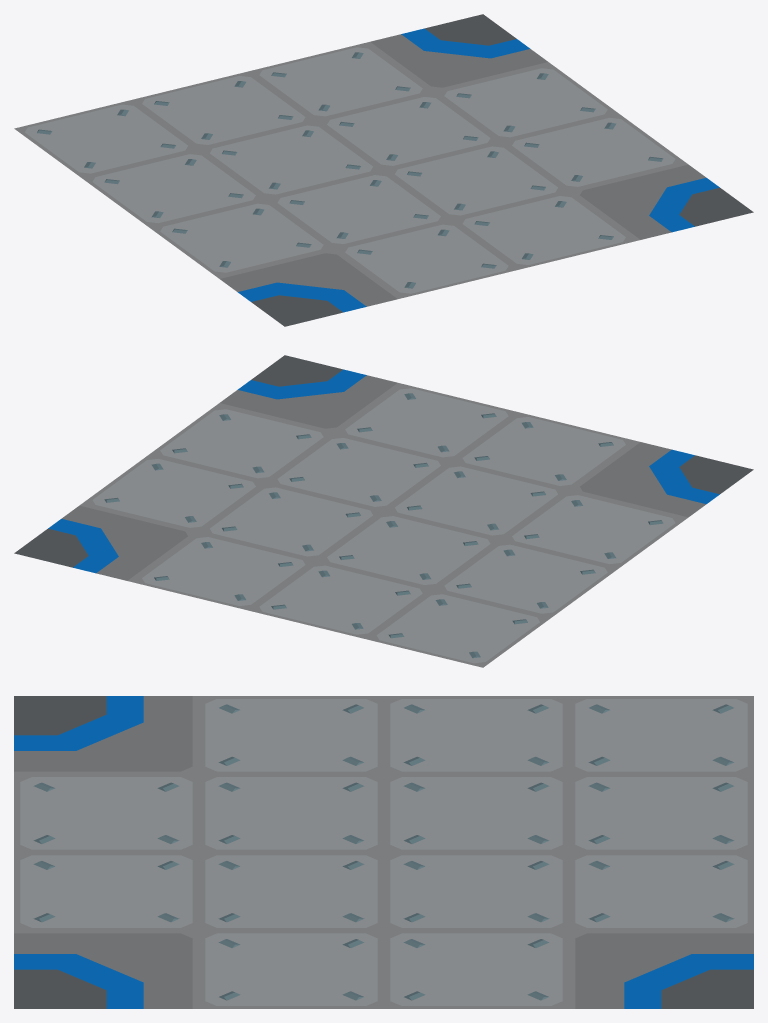
File: Floor_type_B_011.fbx
The picture shows the model from 3 angles, top to bottom: view 1: azimuth 30°, elevation 25°; view 2: azimuth 150°, elevation 25°; view 3: azimuth 270°, elevation 25°; orthographic projection. The views are drawn at different scales.
Parts seen in each view (by area): view 1: Floor_type_B_011; view 2: Floor_type_B_011; view 3: Floor_type_B_011.
Part boxes in pixels (bbox=[...]): Floor_type_B_011: bbox=[14, 14, 753, 326]; Floor_type_B_011: bbox=[14, 355, 753, 667]; Floor_type_B_011: bbox=[14, 696, 753, 1008].
Bounding box in the file's own units: 400 × 400 × 0.8.
